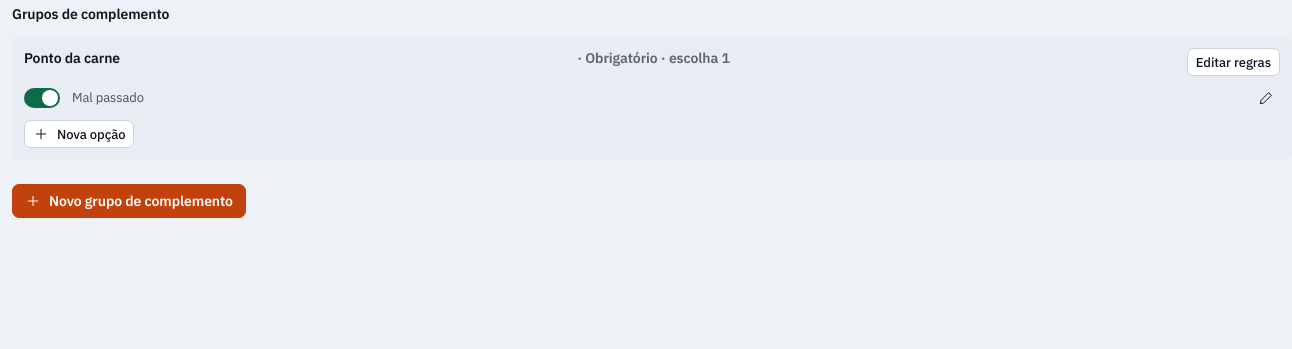
opção que tira o item de venda › pergunta antes de desativar a ÚLTIMA opção ativa de um grupo obrigatório
Click the switch named "Mal passado ativa" at (42, 98), box top-left (16, 76), bottom-right (68, 120)
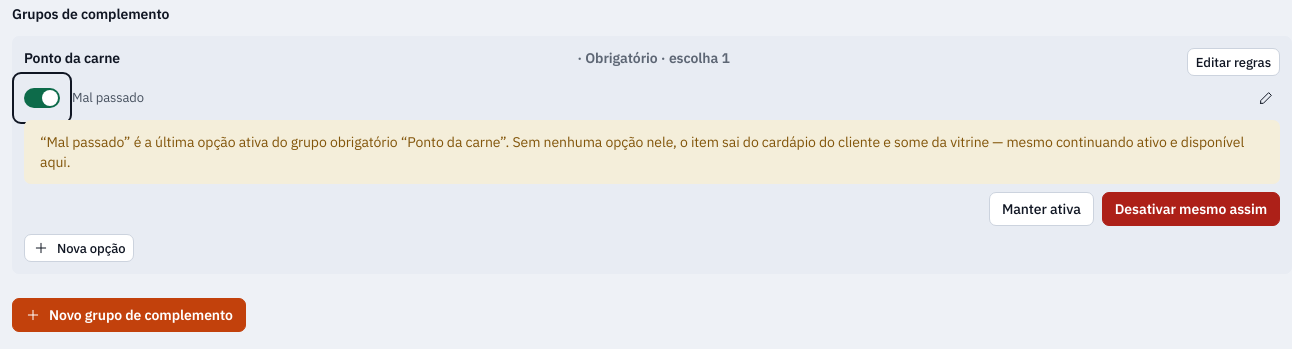
Now the text "última opção ativa do grupo obrigatório" is shown, box top-left (124, 133), bottom-right (407, 151)
Now the element with test id "grupo-confirmar" shows "Ponto da carne", box top-left (407, 133), bottom-right (500, 151)
